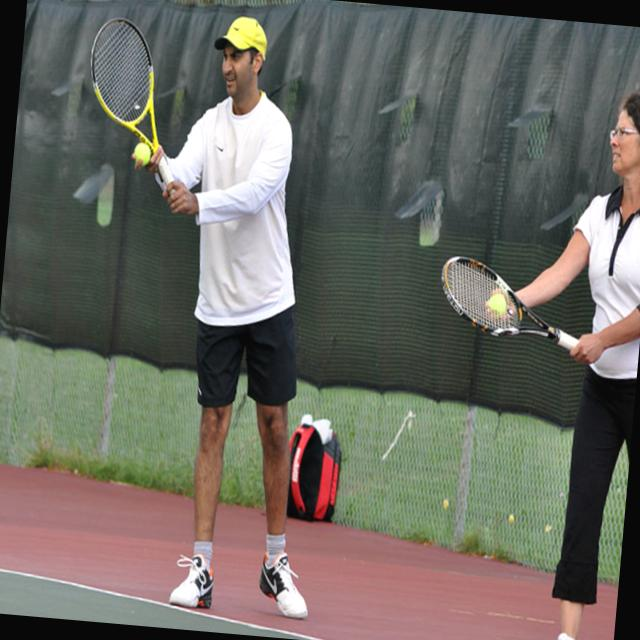Tennis Ball: (480, 292, 507, 312), (134, 140, 152, 166)
